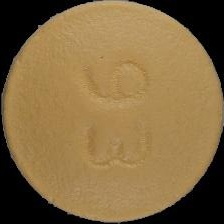63629-1335: (0, 0, 224, 224)
